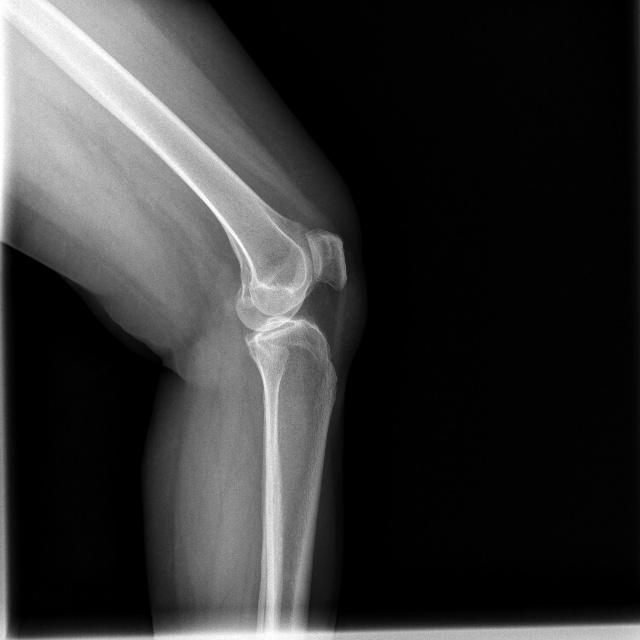Knee: (230, 223, 345, 377)
